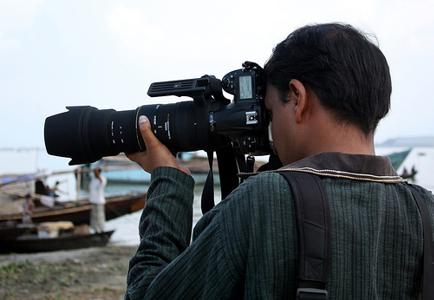person: (125, 23, 434, 300)
